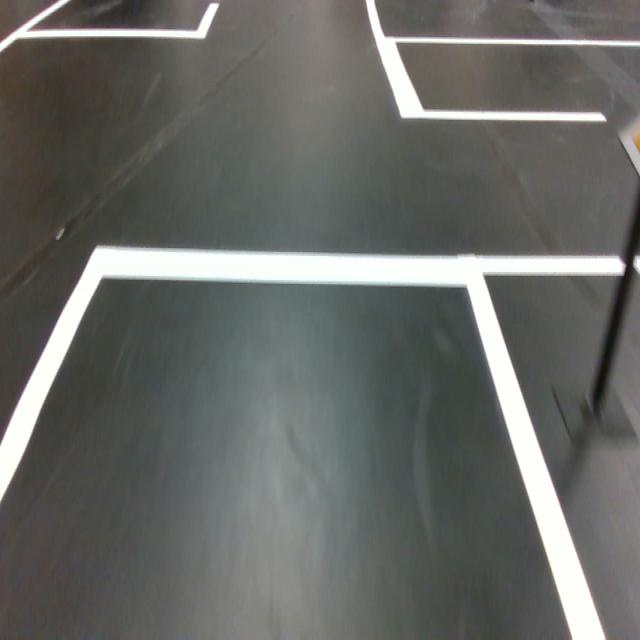priority-sign: (616, 108, 640, 181)
